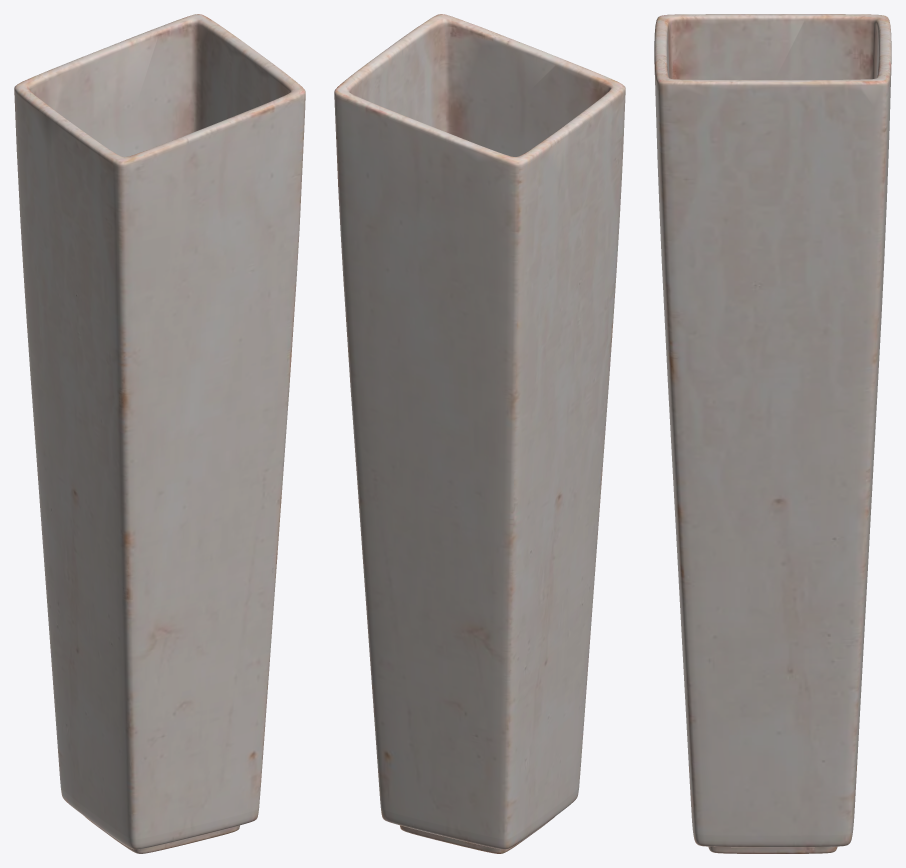
The model's file is ceramic_vase_03.glb.
The picture shows the model from 3 angles, left to right: view 1: azimuth 30°, elevation 25°; view 2: azimuth 150°, elevation 25°; view 3: azimuth 270°, elevation 25°; orthographic projection. The views are drawn at different scales.
Visible parts, largest first — view 1: ceramic_vase_03; view 2: ceramic_vase_03; view 3: ceramic_vase_03.
Part boxes in pixels (<box>): ceramic_vase_03: <box>14,14,305,853</box>; ceramic_vase_03: <box>334,14,625,853</box>; ceramic_vase_03: <box>654,14,891,853</box>.
Bounding box in the file's own units: 0.1123 × 0.4144 × 0.1123.
Materials: 1 (1 with a texture image).
